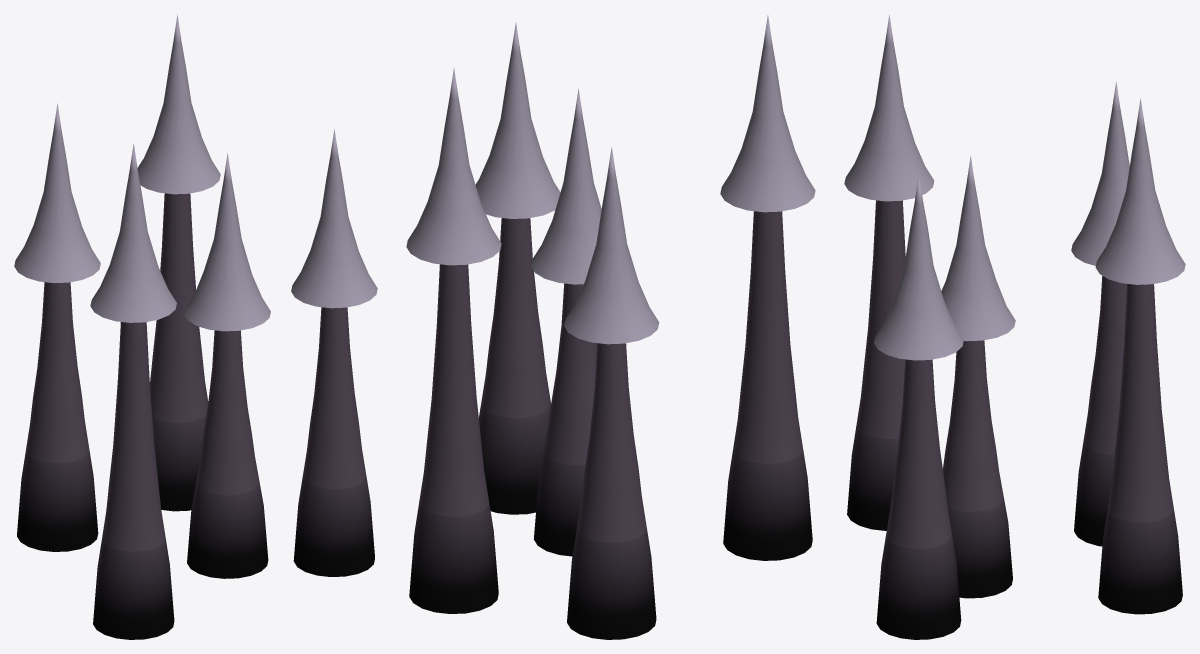
Rendered from CA_169_trap_spears.glb.
3 views of the same model, side by side, from view 1: azimuth 30°, elevation 25°; view 2: azimuth 150°, elevation 25°; view 3: azimuth 270°, elevation 25° (orthographic). The views are drawn at different scales.
Parts seen in each view (by area): view 1: spear_3, spear_4, spear_2, spear_5, spear_1; view 2: spear_3, spear_1, spear_4, spear_2, spear_5; view 3: spear_1, spear_2, spear_5, spear_3, spear_4.
Part boxes in pixels (left/top/right/bottom): spear_3: left=90, top=143, right=176, bottom=639; spear_4: left=14, top=103, right=100, bottom=551; spear_2: left=291, top=129, right=377, bottom=576; spear_5: left=184, top=153, right=270, bottom=578; spear_1: left=137, top=14, right=220, bottom=511; spear_3: left=720, top=15, right=815, bottom=560; spear_1: left=406, top=68, right=501, bottom=613; spear_4: left=564, top=147, right=659, bottom=639; spear_2: left=475, top=22, right=560, bottom=514; spear_5: left=531, top=88, right=601, bottom=556; spear_1: left=1095, top=98, right=1185, bottom=614; spear_2: left=874, top=174, right=963, bottom=639; spear_5: left=941, top=156, right=1015, bottom=598; spear_3: left=844, top=15, right=934, bottom=530; spear_4: left=1071, top=81, right=1129, bottom=546.
Size of the model in its own units: 1.39 by 2.2 by 1.36.
3 materials, 1 textured.
